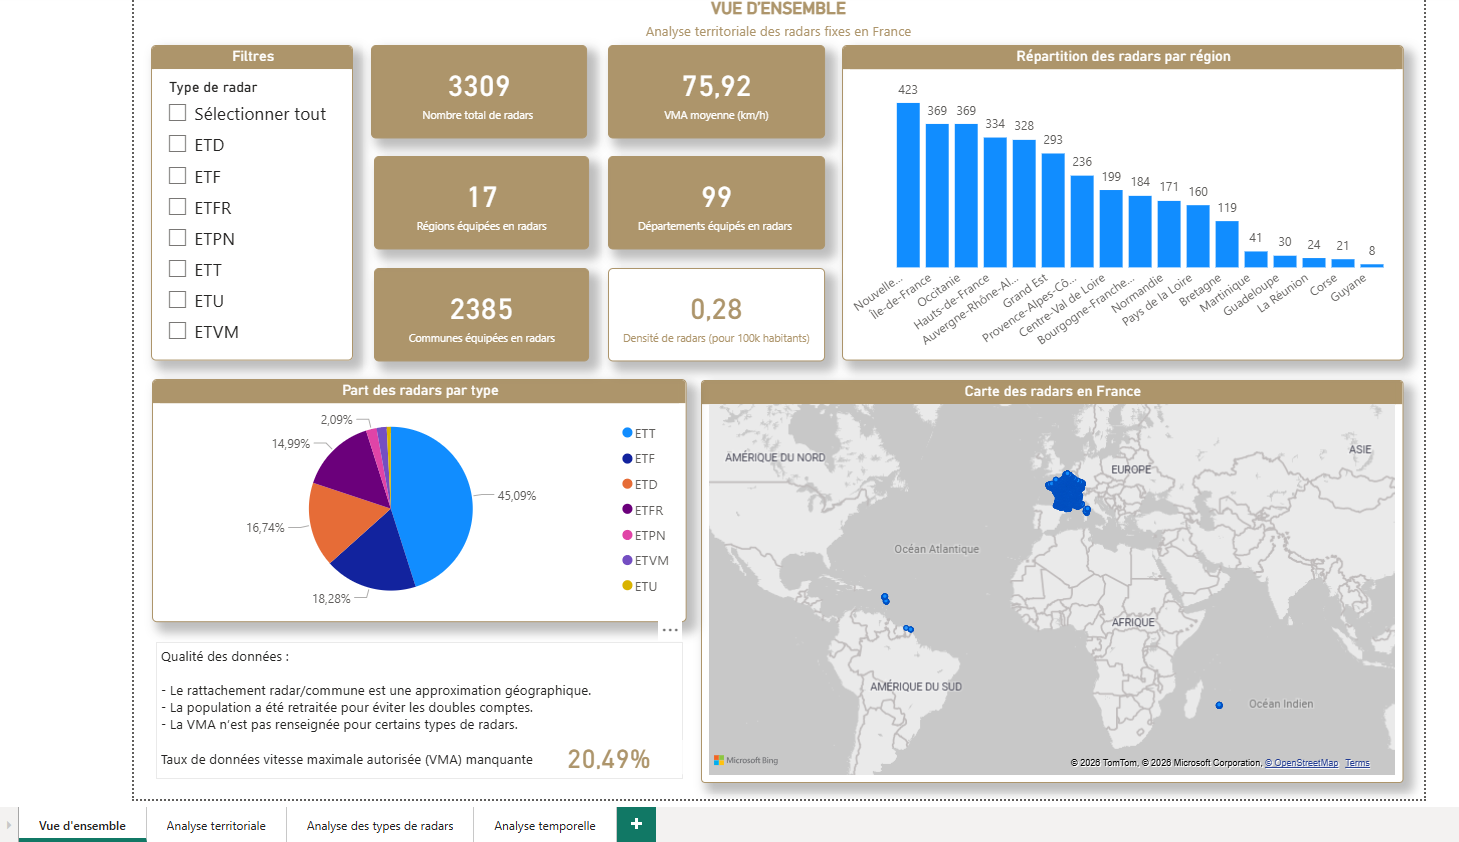

The dashboard page shown, as its layout file describes it:
{"tool":"powerbi","page":{"name":"Vue d'ensemble","canvas":[1283,800],"ordinal":0},"visuals":[{"type":"card","title":"Nombre total de radars fixes","fields":{"Values":["vue_radars_detaillee.Nombre de radars"]},"box":[235.7,50,215,93],"z":0},{"type":"shape","title":"VUE D’ENSEMBLE ","box":[0,3,1282.6,52.7],"z":1000},{"type":"map","title":"Carte des radars en France","fields":{"Y":["vue_radars_detaillee.latitude"],"X":["vue_radars_detaillee.longitude"]},"box":[564.3,382.9,698.6,401.4],"z":2000},{"type":"columnChart","title":"Répartition des radars par région","fields":{"Category":["vue_radars_detaillee.nom_region"],"Y":["vue_radars_detaillee.Nombre de radars"]},"box":[704.3,50,558.6,314.3],"z":3000},{"type":"shape","title":"Filtres","box":[17.1,50,201.4,314.3],"z":5000},{"type":"slicer","fields":{"Values":["vue_radars_detaillee.type_radar"]},"box":[21.4,78.6,191,275.7],"z":6000},{"type":"pieChart","title":"Part des radars par type","fields":{"Category":["vue_radars_detaillee.type_radar"],"Y":["vue_radars_detaillee.Nombre de radars"]},"box":[17.9,382.4,532.3,242.1],"z":7000},{"type":"card","title":"Nombre total de radars fixes","fields":{"Values":["vue_radars_detaillee.VMA moyenne"]},"box":[471.4,50,215.7,93],"z":8000},{"type":"card","title":"Nombre total de radars fixes","fields":{"Values":["vue_radars_detaillee.Nombre de communes"]},"box":[238.6,271.4,214.3,92.9],"z":9000},{"type":"card","title":"Nombre total de radars fixes","fields":{"Values":["vue_radars_detaillee.Nombre de départements"]},"box":[471.4,160,215.7,92.9],"z":10000},{"type":"card","title":"Nombre total de radars fixes","fields":{"Values":["vue_radars_detaillee.Nombre de régions"]},"box":[238.6,160,214.3,92.9],"z":11000},{"type":"card","title":"Nombre total de radars fixes","fields":{"Values":["vue_radars_detaillee.Radars pour 100 000 habitants (vue d'ensemble stable)"]},"box":[471.4,271.4,215.7,92.9],"z":12000},{"type":"textbox","box":[22,643.7,524,136.2],"z":13000},{"type":"card","fields":{"Values":["vue_radars_detaillee.Taux de VMA manquante (%)"]},"box":[398.9,741.4,147.2,34.4],"z":13500}]}

Visuals, with their boxes on the page's 1283x800 design canvas (x1, y1, x2, y2). These are canvas units, not pixel positions in the 1459x842 screenshot, which may show the page scaled, cropped or inside an application window:
"Nombre total de radars fixes" card: select_region(236, 50, 451, 143)
"VUE D’ENSEMBLE " shape: select_region(0, 3, 1283, 56)
"Carte des radars en France" map: select_region(564, 383, 1263, 784)
"Répartition des radars par région" columnChart: select_region(704, 50, 1263, 364)
"Filtres" shape: select_region(17, 50, 218, 364)
slicer - vue_radars_detaillee.type_radar: select_region(21, 79, 212, 354)
"Part des radars par type" pieChart: select_region(18, 382, 550, 624)
"Nombre total de radars fixes" card: select_region(471, 50, 687, 143)
"Nombre total de radars fixes" card: select_region(239, 271, 453, 364)
"Nombre total de radars fixes" card: select_region(471, 160, 687, 253)
"Nombre total de radars fixes" card: select_region(239, 160, 453, 253)
"Nombre total de radars fixes" card: select_region(471, 271, 687, 364)
textbox: select_region(22, 644, 546, 780)
card - vue_radars_detaillee.Taux de VMA manquante (%): select_region(399, 741, 546, 776)
